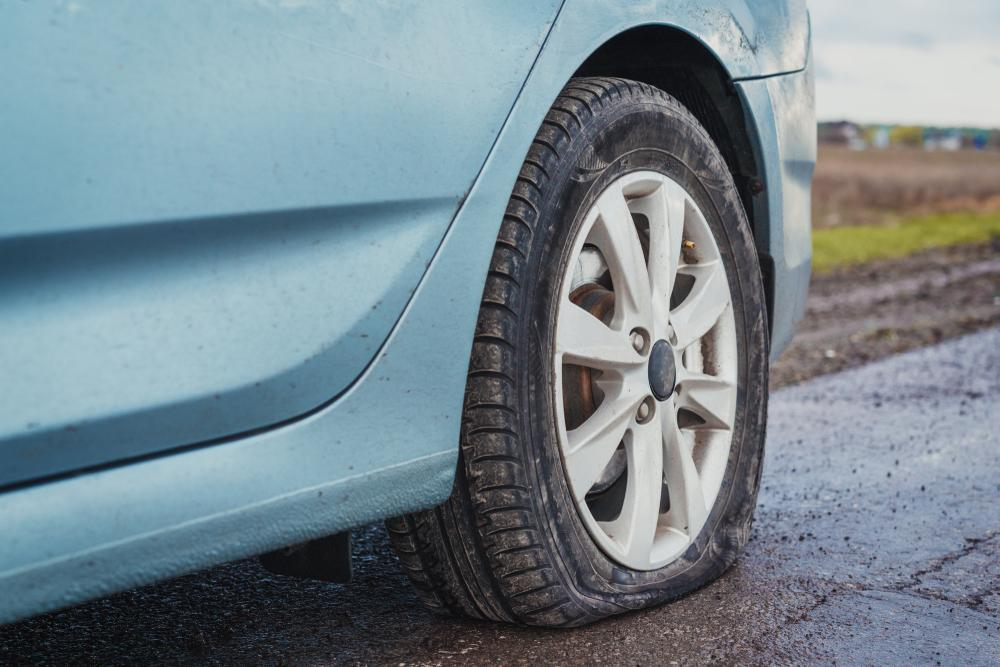tire flat: (387, 74, 769, 629)
